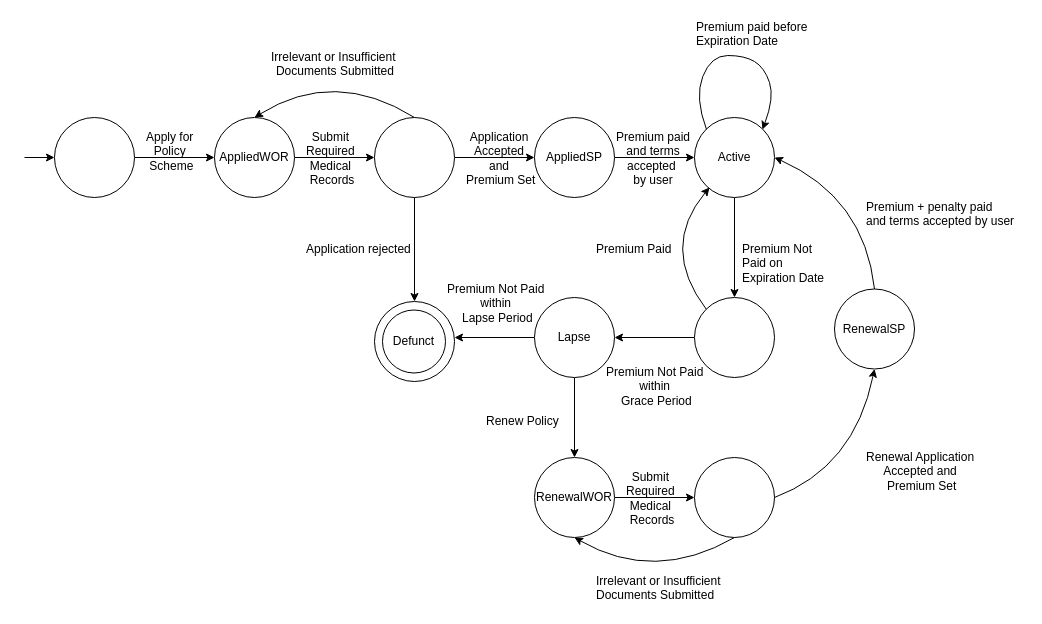
The diagram is 1042 pixels wide and 624 high, and some of its shapes have lost their labels. Here are the shapes that lost their labels. From the top down, the box of each, then its label:
(54, 116, 134, 198): Start
(374, 116, 454, 198): Applied
(694, 296, 774, 378): Grace
(694, 456, 774, 538): Renewal
